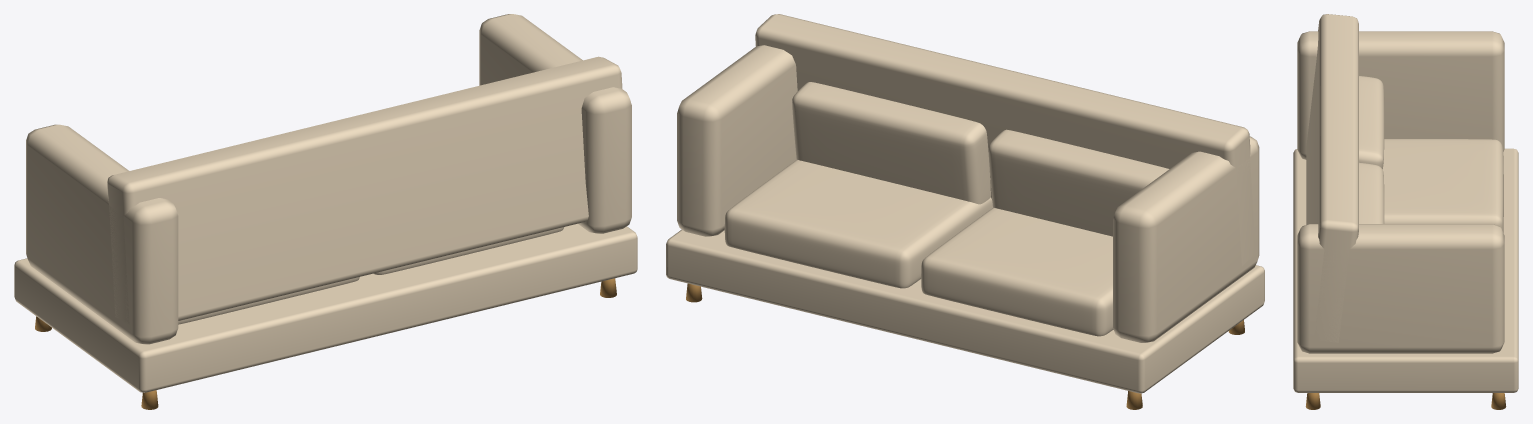
Rendered from sofa.glb.
3 renders of one model, left to right at view 1: azimuth 30°, elevation 25°; view 2: azimuth 150°, elevation 25°; view 3: azimuth 270°, elevation 25°, orthographic. The views are drawn at different scales.
Parts seen in each view (by area): view 1: leg; view 2: leg; view 3: leg.
Part boxes in pixels (x1,y1,x2,y2): leg: (14, 14, 637, 409); leg: (666, 14, 1264, 409); leg: (1293, 14, 1518, 409).
Size of the model in its own units: 2 by 0.8474 by 0.9.
